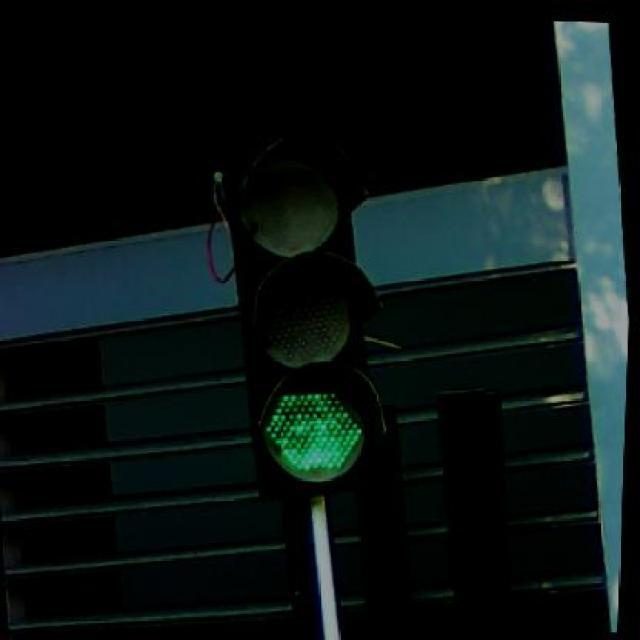green: (210, 96, 400, 517)
